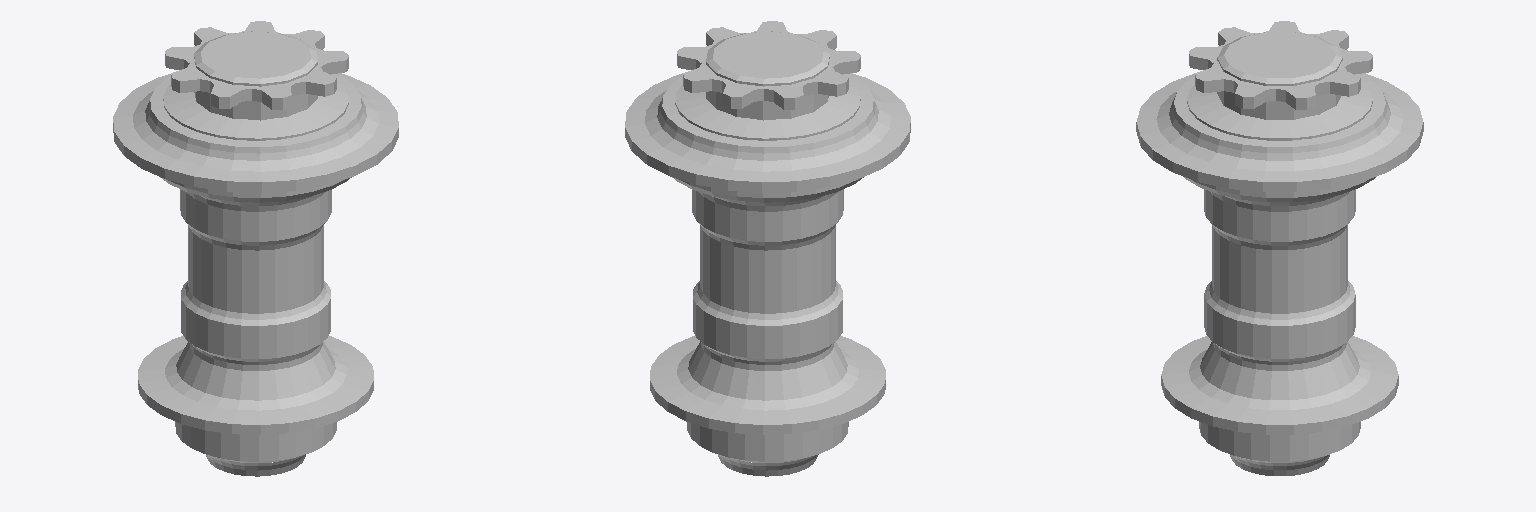
Rendered from RearHubShell.obj.
3 renders of one model, left to right at view 1: azimuth 30°, elevation 25°; view 2: azimuth 150°, elevation 25°; view 3: azimuth 270°, elevation 25°, orthographic.
Visible parts, largest first — view 1: Mini_Rear; view 2: Mini_Rear; view 3: Mini_Rear.
Boxes of the visible parts, box(x1,y1,x2,y2) form: Mini_Rear: box(113, 21, 398, 476); Mini_Rear: box(625, 21, 910, 476); Mini_Rear: box(1136, 21, 1423, 475).
Size of the model in its own units: 0.0648 by 0.1009 by 0.0653.